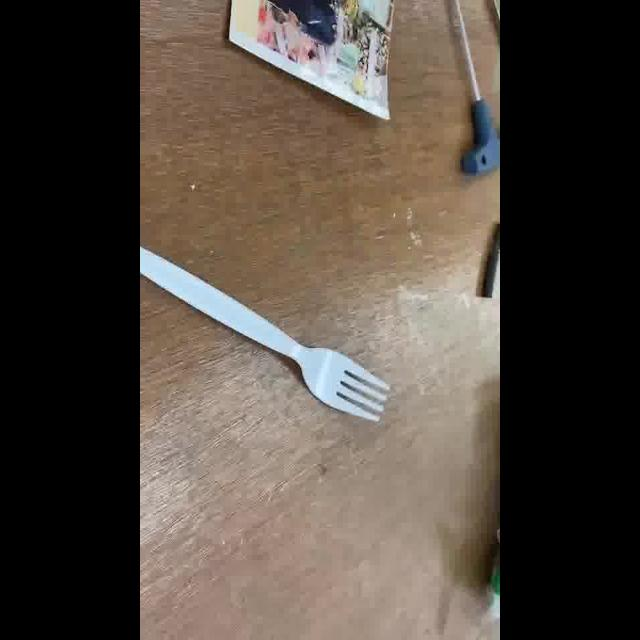plastic_cultery: (140, 244, 394, 426)
